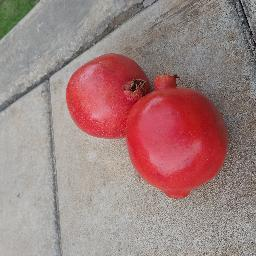Good_pomegranate: (62, 48, 227, 202)
